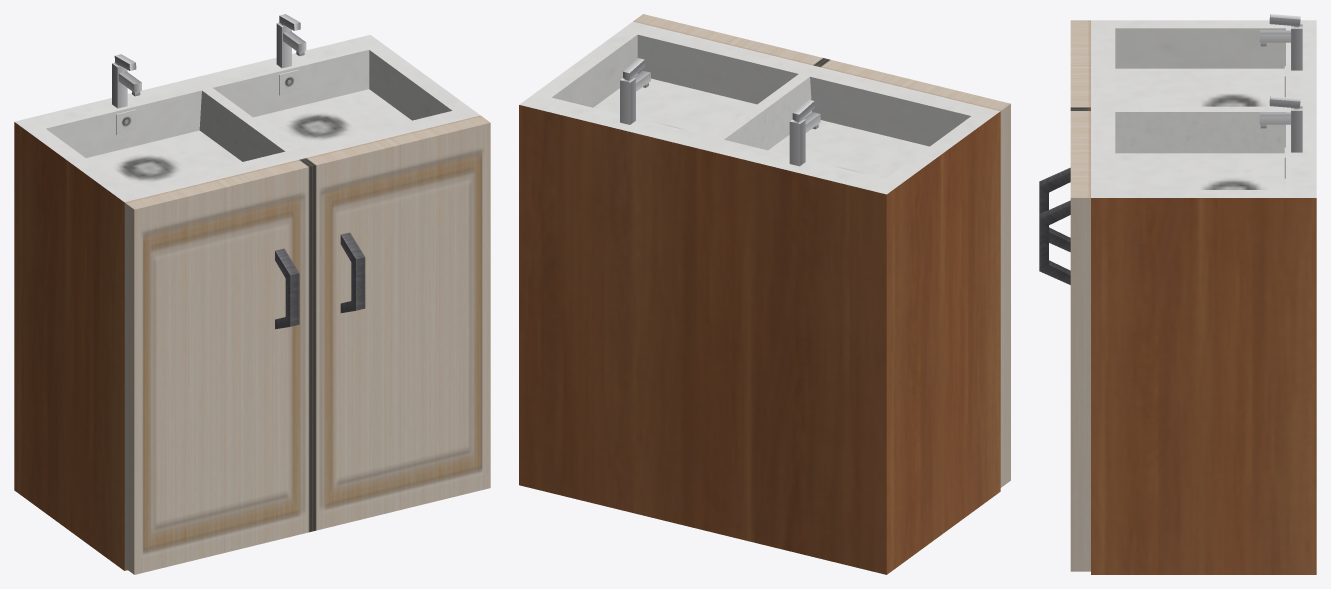
File: Kitchen_Cabinet_1E.fbx
3 renders of one model, left to right at view 1: azimuth 30°, elevation 25°; view 2: azimuth 150°, elevation 25°; view 3: azimuth 270°, elevation 25°, orthographic. The views are drawn at different scales.
Parts seen in each view (by area): view 1: polySurface1534; view 2: polySurface1534; view 3: polySurface1534.
Part boxes in pixels (left/top/right/bottom): polySurface1534: left=14, top=14, right=490, bottom=574; polySurface1534: left=519, top=14, right=1010, bottom=574; polySurface1534: left=1039, top=14, right=1316, bottom=574.
Bounding box in the file's own units: 1.3 × 1.46 × 0.8565.
